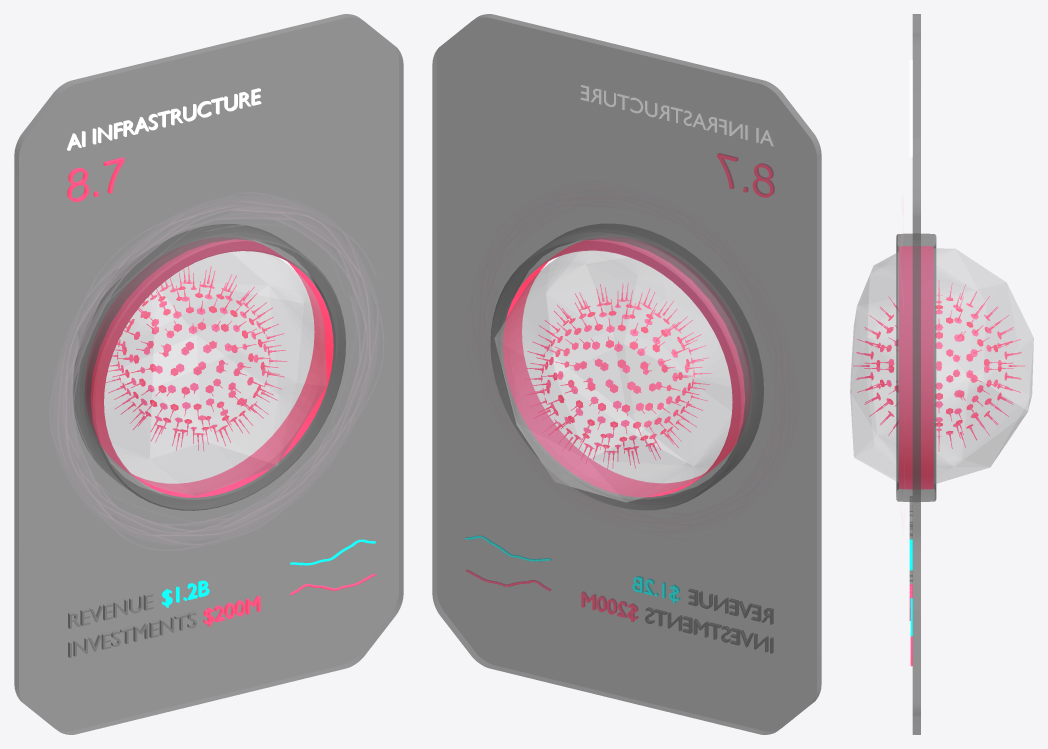
3 views of the same model, side by side, from view 1: azimuth 30°, elevation 25°; view 2: azimuth 150°, elevation 25°; view 3: azimuth 270°, elevation 25° (orthographic). The views are drawn at different scales.
Visible parts, largest first — view 1: baseRed, Glass.001, cornerRed, neon-corner.001, neon-sphere.002, Text.006, Text.010, Text.008, neon-rimRed, neon-text.002, neon-text.003; view 2: baseRed, Glass.001, cornerRed, neon-corner.001, neon-sphere.002, Text.006, Text.010, Text.008, neon-text.002, neon-text.003; view 3: Glass.001, cornerRed, neon-corner.001, baseRed, neon-sphere.002, Text.006.
Part boxes in pixels (x1,y1,x2,y2): baseRed: (14,14,403,734); Glass.001: (104,251,326,495); cornerRed: (73,224,345,510); neon-corner.001: (85,237,333,497); neon-sphere.002: (105,266,287,451); Text.006: (67,88,261,150); Text.010: (68,611,196,657); Text.008: (68,593,153,628); neon-rimRed: (66,203,370,536); neon-text.002: (67,157,124,201); neon-text.003: (203,595,260,626); baseRed: (432,14,821,734); Glass.001: (494,251,732,502); cornerRed: (490,224,763,510); neon-corner.001: (503,237,750,497); neon-sphere.002: (524,283,711,469); Text.006: (580,84,774,146); Text.010: (645,607,773,653); Text.008: (688,589,773,624); neon-text.002: (717,153,774,197); neon-text.003: (581,591,637,622); Glass.001: (850,248,1033,483); cornerRed: (896,233,936,501); neon-corner.001: (899,246,933,489); baseRed: (912,14,920,734); neon-sphere.002: (853,280,1024,451); Text.006: (909,59,912,156).
Bounding box in the file's own units: 1.47 × 2.38 × 0.666.
Materials: 7 (1 with a texture image).
